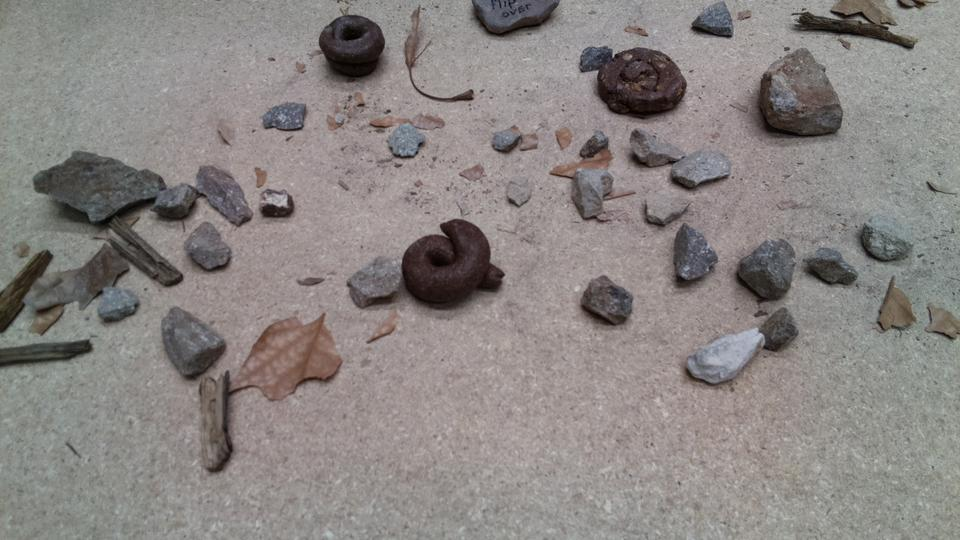poop: (402, 218, 501, 310), (598, 45, 685, 115), (319, 14, 386, 77)
